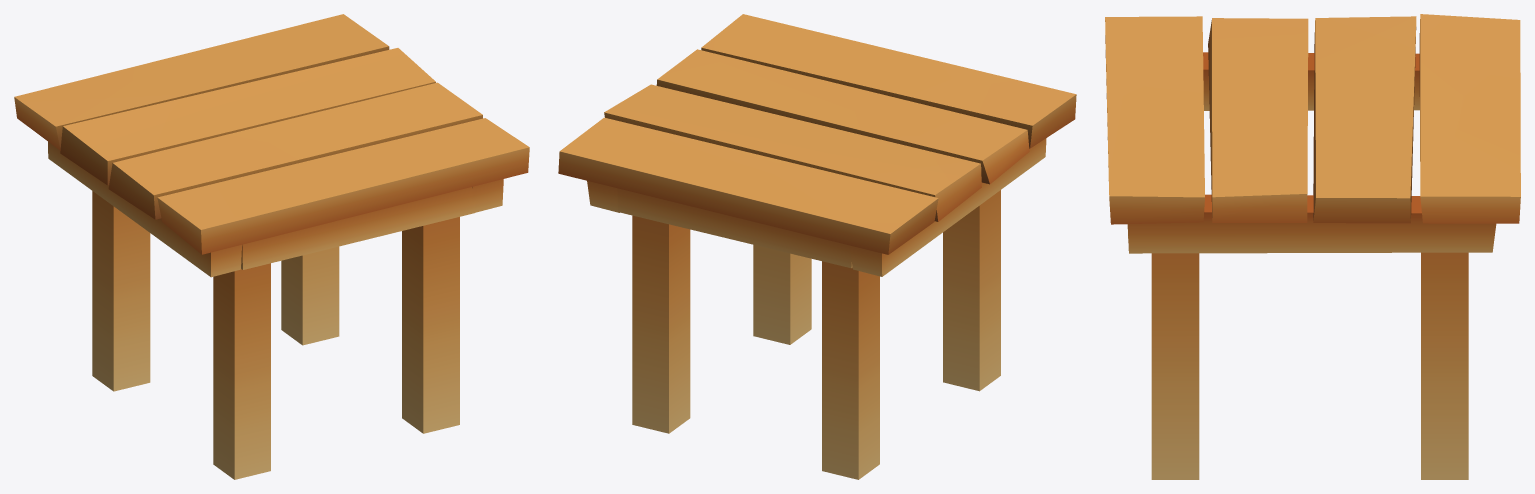
Rendered from SM_Table.fbx.
The picture shows the model from 3 angles, left to right: view 1: azimuth 30°, elevation 25°; view 2: azimuth 150°, elevation 25°; view 3: azimuth 270°, elevation 25°; orthographic projection. The views are drawn at different scales.
Visible parts, largest first — view 1: SM_Table; view 2: SM_Table; view 3: SM_Table.
Part boxes in pixels (left/top/right/bottom): SM_Table: left=14, top=14, right=529, bottom=479; SM_Table: left=558, top=14, right=1076, bottom=479; SM_Table: left=1105, top=14, right=1520, bottom=479.
Bounding box in the file's own units: 1.65 × 1.3 × 1.57.
